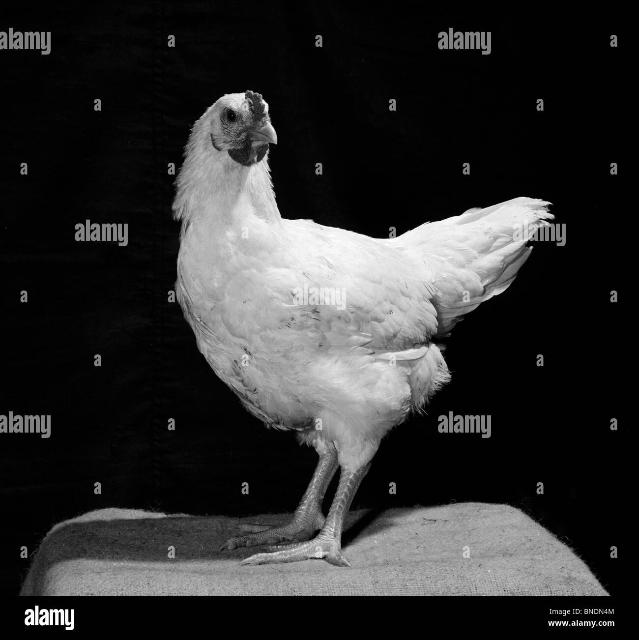Chicken: (171, 90, 557, 566)
